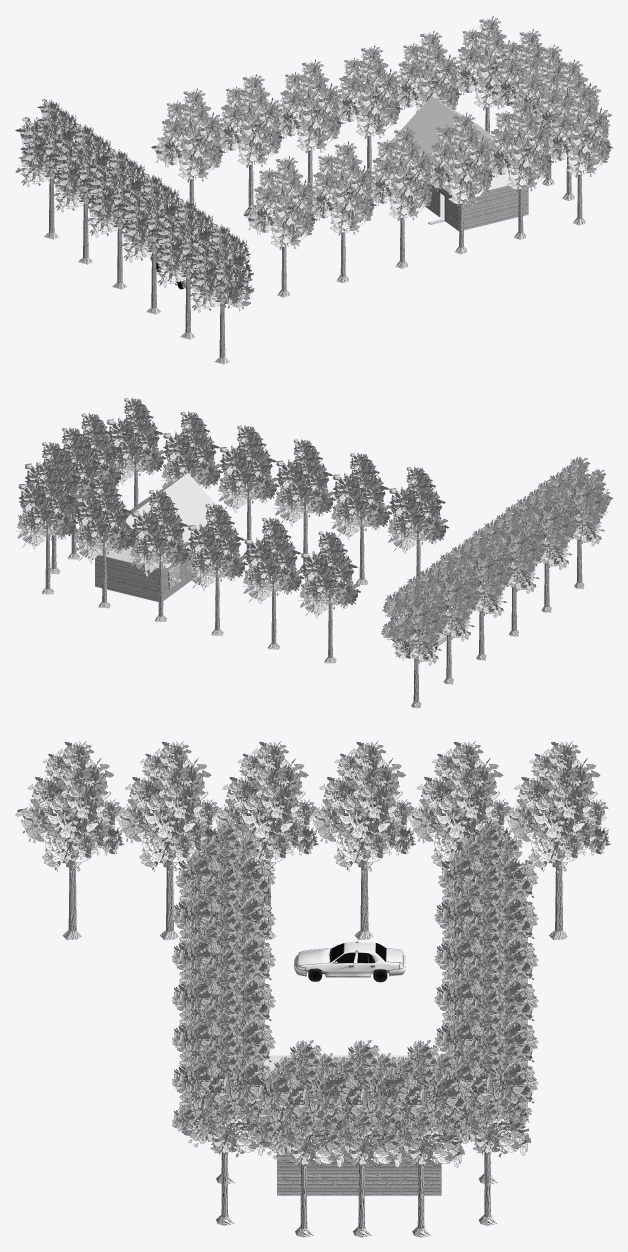
File: Map1.fbx
The picture shows the model from 3 angles, top to bottom: view 1: azimuth 30°, elevation 25°; view 2: azimuth 150°, elevation 25°; view 3: azimuth 270°, elevation 25°; orthographic projection. The views are drawn at different scales.
Visible parts, largest first — view 1: Tree.001, Tree, Tree.005, Plane.007, Tree.002, Tree.003, Plane.003, Tree.004; view 2: Tree, Tree.001, Tree.005, Plane.007, Plane.002, Tree.004, Tree.003, Tree.002, Plane.001; view 3: Tree.005, Tree.001, Tree, Tree.003, Tree.002, Tree.004, Plane.004, Police Car, Plane.007.
Part boxes in pixels (x1,y1,x2,y2): Tree.001: (244, 83, 612, 297); Tree: (151, 16, 519, 223); Tree.005: (15, 99, 254, 364); Plane.007: (390, 96, 511, 192); Tree.002: (487, 29, 552, 115); Tree.003: (534, 59, 600, 200); Plane.003: (459, 185, 528, 230); Tree.004: (508, 44, 573, 185); Tree: (16, 462, 360, 663); Tree.001: (107, 398, 448, 598); Tree.005: (381, 456, 612, 708); Plane.007: (124, 473, 230, 567); Plane.002: (95, 555, 158, 601); Tree.004: (51, 427, 101, 559); Tree.003: (71, 413, 123, 514); Tree.002: (25, 442, 83, 574); Plane.001: (163, 550, 196, 600); Tree.005: (15, 741, 610, 940); Tree.001: (172, 822, 275, 1225); Tree: (434, 822, 538, 1225); Tree.003: (251, 1040, 353, 1237); Tree.002: (370, 1040, 471, 1237); Tree.004: (311, 1040, 411, 1237); Plane.004: (277, 1143, 441, 1195); Police Car: (294, 941, 405, 982); Plane.007: (263, 1055, 449, 1143).
Bounding box in the file's own units: 4045 × 1086 × 2994.
Materials: 12 (8 with a texture image).
